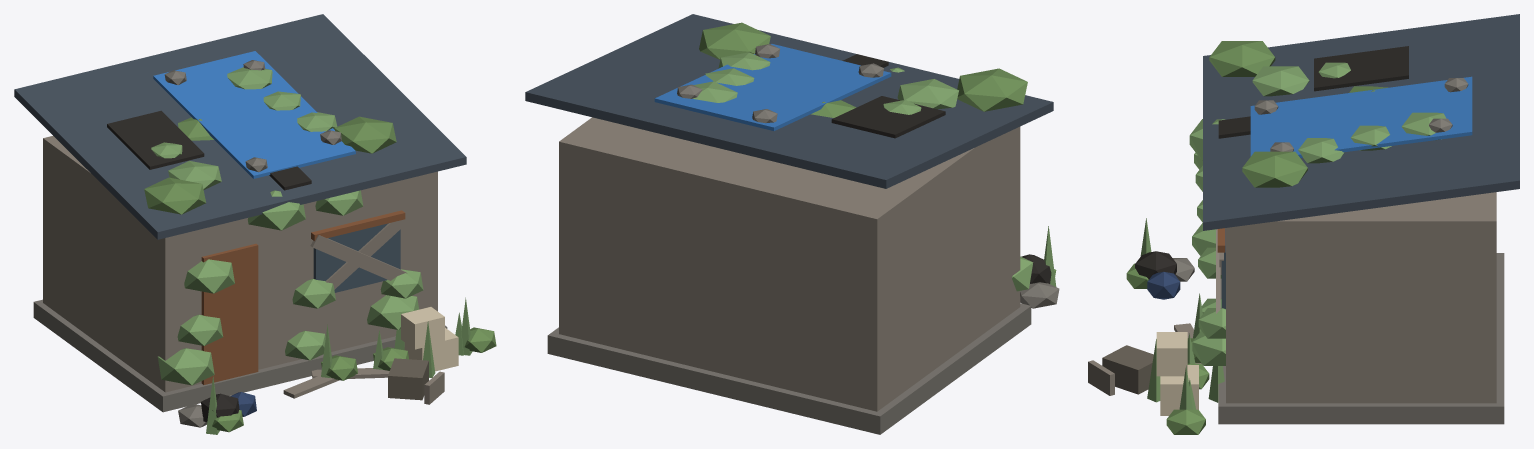
File: office_hut_s0.fbx
3 renders of one model, left to right at view 1: azimuth 30°, elevation 25°; view 2: azimuth 150°, elevation 25°; view 3: azimuth 270°, elevation 25°, orthographic. The views are drawn at different scales.
Visible parts, largest first — view 1: office_hut_s0; view 2: office_hut_s0; view 3: office_hut_s0.
Part boxes in pixels (x1,y1,x2,y2): office_hut_s0: (14, 14, 496, 434); office_hut_s0: (525, 14, 1059, 434); office_hut_s0: (1088, 14, 1519, 434).
Bounding box in the file's own units: 5.43 × 3.71 × 5.59.
1 material, 1 textured.
